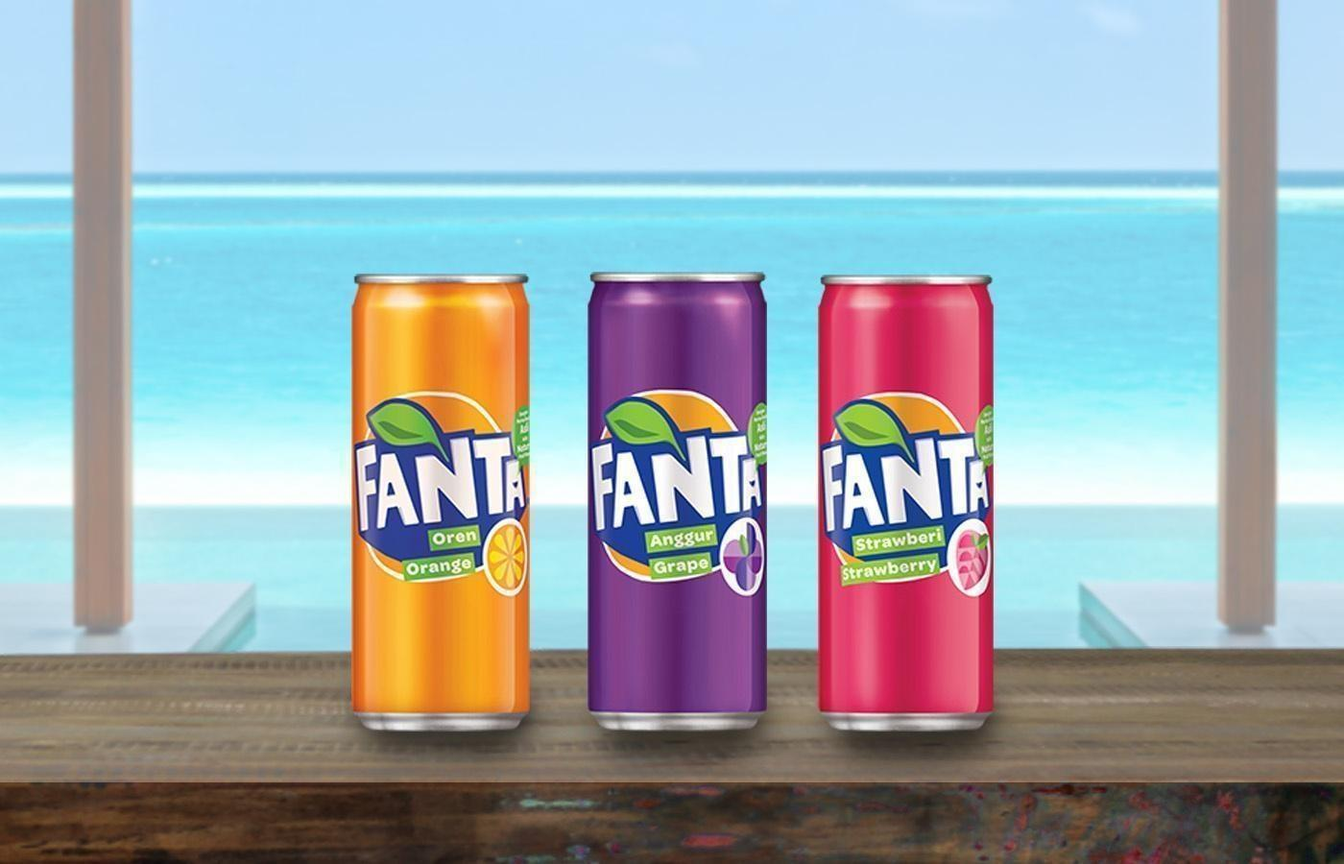tin can: (808, 258, 994, 735), (584, 266, 773, 733), (348, 267, 534, 734)
